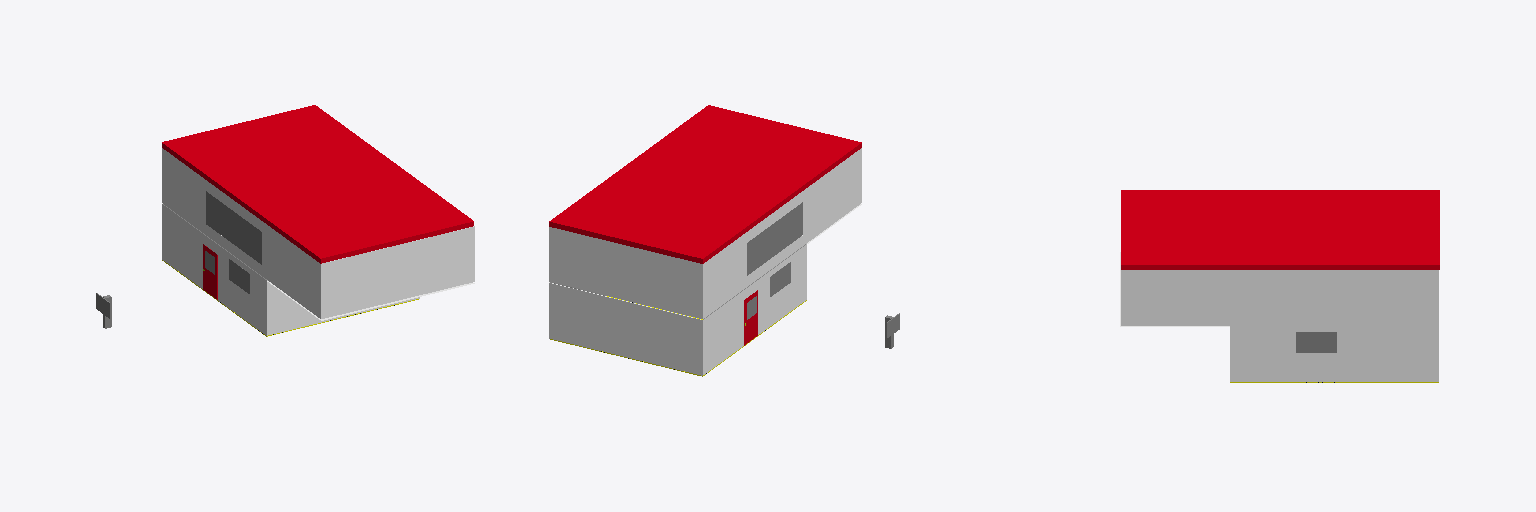
3 views of the same model, side by side, from view 1: azimuth 30°, elevation 25°; view 2: azimuth 150°, elevation 25°; view 3: azimuth 270°, elevation 25° (orthographic).
Visible parts, largest first — view 1: Box084, Box026, Box027, Box005, Box051, Box004; view 2: Box084, Box003, Box025, Box027, Box005, Box051; view 3: Box084, Box028, Box006, Box008.
Part boxes in pixels (x1,y1,x2,y2): Box084: (162,105,473,263); Box026: (321,226,474,318); Box027: (162,148,320,318); Box005: (162,204,266,334); Box051: (206,191,261,264); Box004: (266,280,419,335); Box084: (549,105,861,263); Box003: (549,282,702,375); Box025: (549,227,702,318); Box027: (703,148,861,318); Box005: (703,244,806,374); Box051: (747,202,802,275); Box084: (1121,190,1439,269); Box028: (1122,270,1437,325); Box006: (1231,326,1437,381); Box008: (1296,332,1336,352).
Size of the model in its own units: 557 by 225 by 552.
Materials: 18 (4 with a texture image).